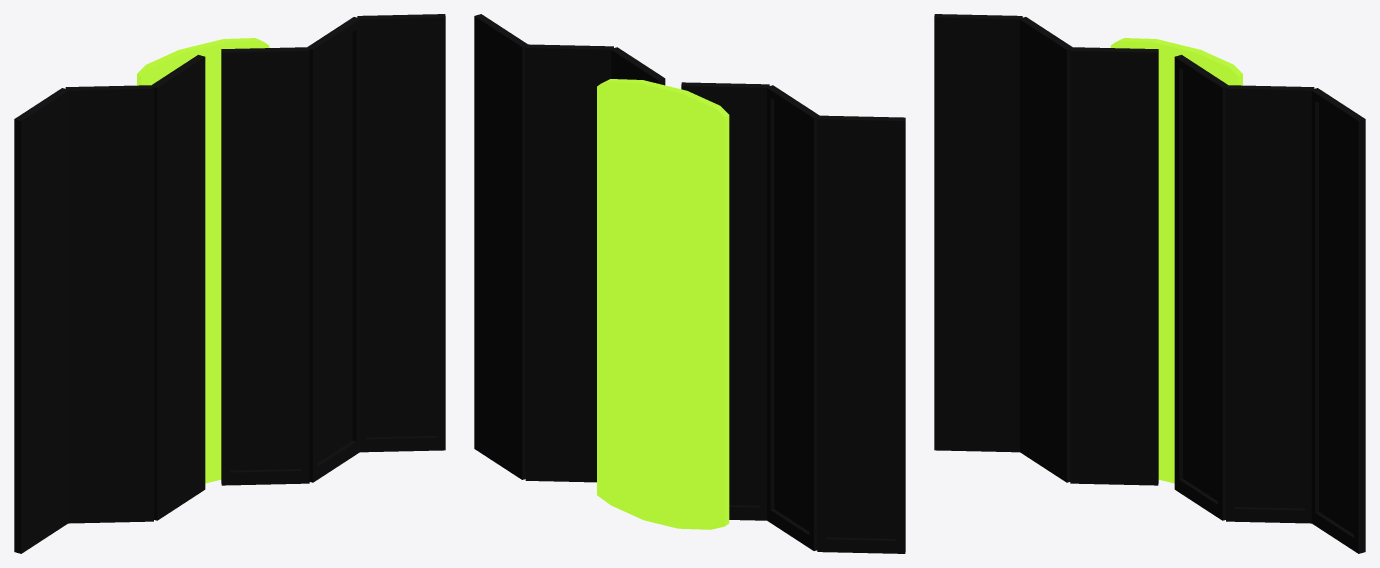
3 renders of one model, left to right at view 1: azimuth 30°, elevation 25°; view 2: azimuth 150°, elevation 25°; view 3: azimuth 330°, elevation 25°, orthographic.
Parts seen in each view (by area): view 1: byobu_R1, byobu_R3, byobu_L2, byobu_L3, byobu_L1, byobu_R2, byobu_light; view 2: byobu_light, byobu_L3, byobu_R2, byobu_R3, byobu_L2, byobu_L1, byobu_R1; view 3: byobu_L1, byobu_L3, byobu_R2, byobu_R3, byobu_R1, byobu_L2, byobu_light.
Boxes of the visible parts, bbox=[...] form: byobu_R1: bbox=[221, 47, 309, 485]; byobu_R3: bbox=[357, 14, 445, 452]; byobu_L2: bbox=[65, 85, 153, 523]; byobu_L3: bbox=[14, 88, 68, 553]; byobu_L1: bbox=[150, 54, 205, 520]; byobu_R2: bbox=[307, 17, 359, 482]; byobu_light: bbox=[137, 38, 269, 483]; byobu_light: bbox=[597, 79, 729, 529]; byobu_L3: bbox=[817, 115, 905, 553]; byobu_R2: bbox=[525, 44, 613, 482]; byobu_R3: bbox=[474, 14, 527, 479]; byobu_L2: bbox=[767, 85, 820, 550]; byobu_L1: bbox=[681, 82, 769, 520]; byobu_R1: bbox=[610, 47, 665, 85]; byobu_L1: bbox=[1070, 47, 1158, 485]; byobu_L3: bbox=[934, 14, 1022, 452]; byobu_R2: bbox=[1226, 85, 1314, 523]; byobu_R3: bbox=[1311, 88, 1365, 553]; byobu_R1: bbox=[1174, 54, 1228, 520]; byobu_L2: bbox=[1020, 17, 1073, 482]; byobu_light: bbox=[1110, 38, 1242, 483].
Bounding box in the file's own units: 1.75 × 1.69 × 0.2291.
